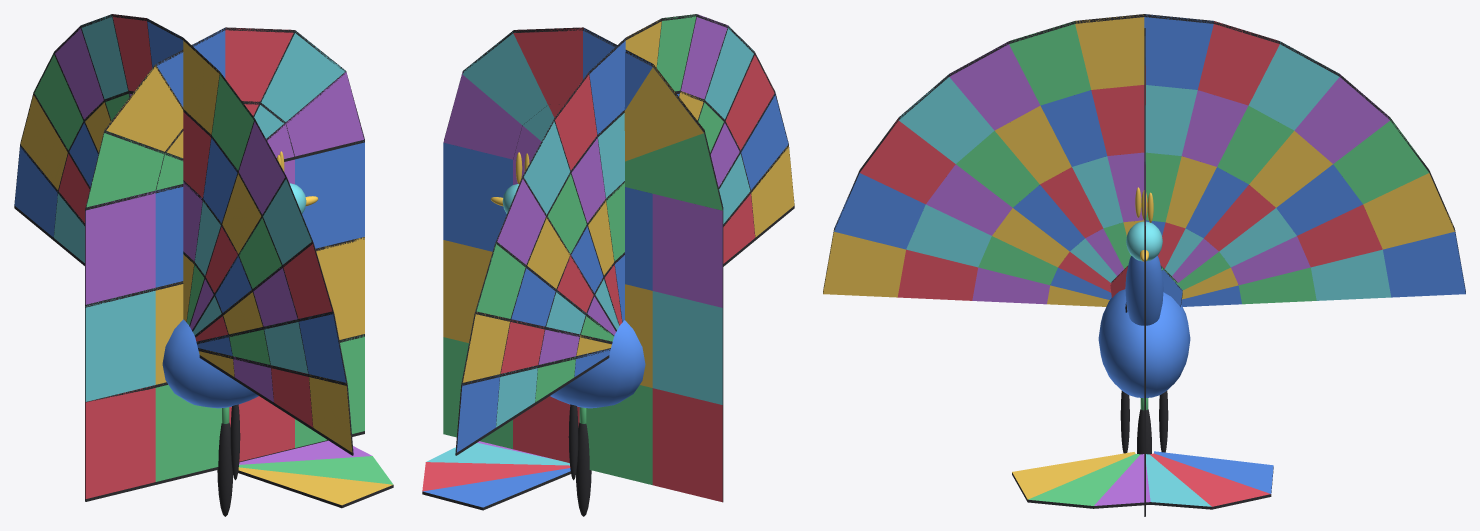
The picture shows the model from 3 angles, left to right: view 1: azimuth 30°, elevation 25°; view 2: azimuth 150°, elevation 25°; view 3: azimuth 270°, elevation 25°; orthographic projection. The views are drawn at different scales.
Parts seen in each view (by area): view 1: archP, pTailP, bWingLP, pBody, bWingRP, bBody, pLeg-1; view 2: archP, pTailP, bWingLP, bWingRP, pBody, bBody, pLeg1; view 3: pTailP, bWingLP, pBody, bWingRP, pNeck, pHead, archP.
Boxes of the visible parts, x1,y1,x2,y2 form: archP: [85, 27, 364, 501]; pTailP: [14, 14, 353, 455]; bWingLP: [238, 440, 393, 508]; pBody: [162, 319, 258, 408]; bWingRP: [238, 441, 393, 507]; bBody: [217, 422, 232, 516]; pLeg-1: [230, 404, 240, 480]; archP: [443, 27, 723, 502]; pTailP: [455, 14, 794, 455]; bWingLP: [422, 441, 570, 510]; bWingRP: [422, 441, 570, 510]; pBody: [550, 320, 645, 408]; bBody: [576, 422, 591, 516]; pLeg1: [568, 404, 578, 480]; pTailP: [823, 14, 1465, 306]; bWingLP: [1012, 451, 1273, 509]; pBody: [1098, 289, 1190, 398]; bWingRP: [1012, 451, 1273, 509]; pNeck: [1125, 256, 1163, 325]; pHead: [1126, 221, 1162, 261]; archP: [1144, 28, 1145, 516].
Bounding box in the file's own units: 4 × 6.7 × 8.39.
